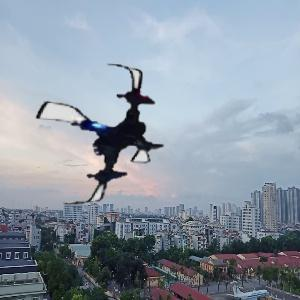drone: (23, 59, 176, 212)
